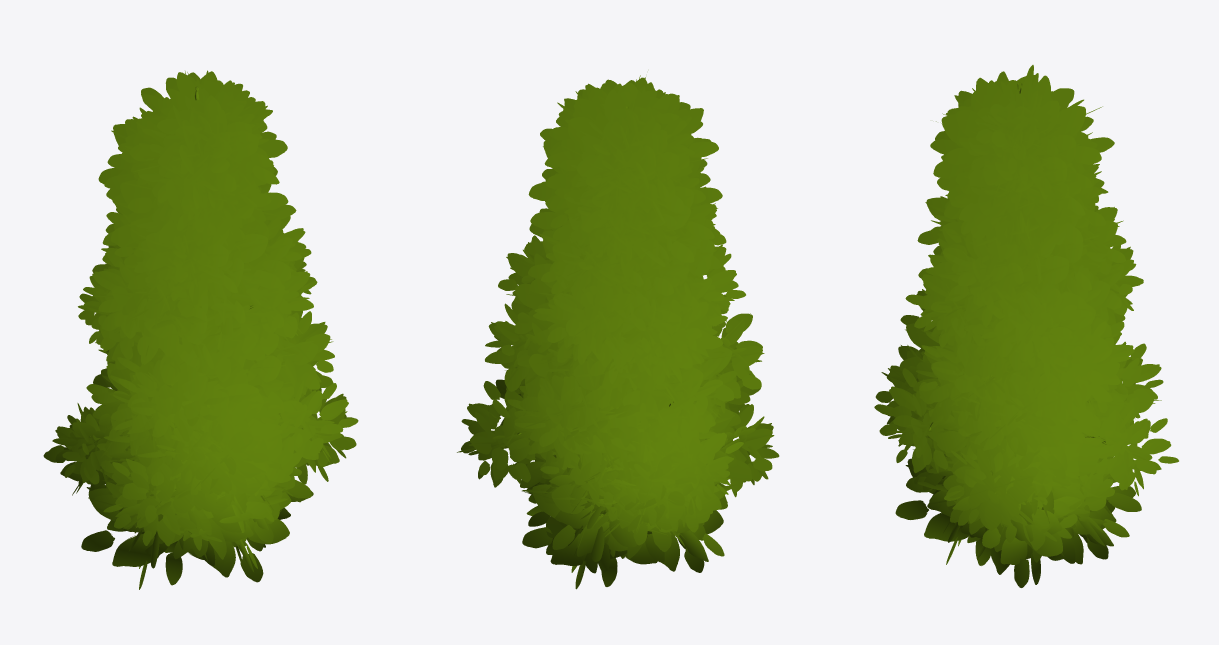
The model's file is Bush_Long_2.gltf.
3 renders of one model, left to right at view 1: azimuth 30°, elevation 25°; view 2: azimuth 150°, elevation 25°; view 3: azimuth 270°, elevation 25°, orthographic.
Parts seen in each view (by area): view 1: Bush_Long_2; view 2: Bush_Long_2; view 3: Bush_Long_2.
Boxes of the visible parts, x1,y1,x2,y2 form: Bush_Long_2: (43, 70, 358, 589); Bush_Long_2: (457, 75, 779, 589); Bush_Long_2: (874, 65, 1178, 587).
Size of the model in its own units: 1.61 by 2.76 by 1.56.
Materials: 1 (1 with a texture image).
